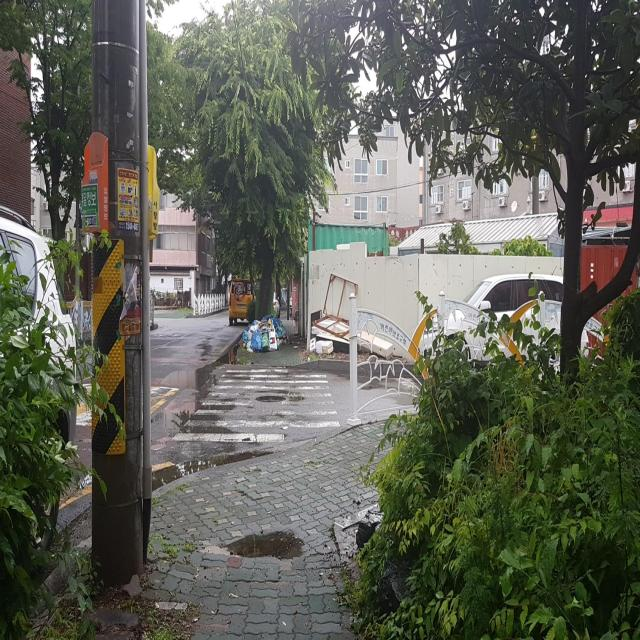횡단보도: (170, 367, 342, 444)
